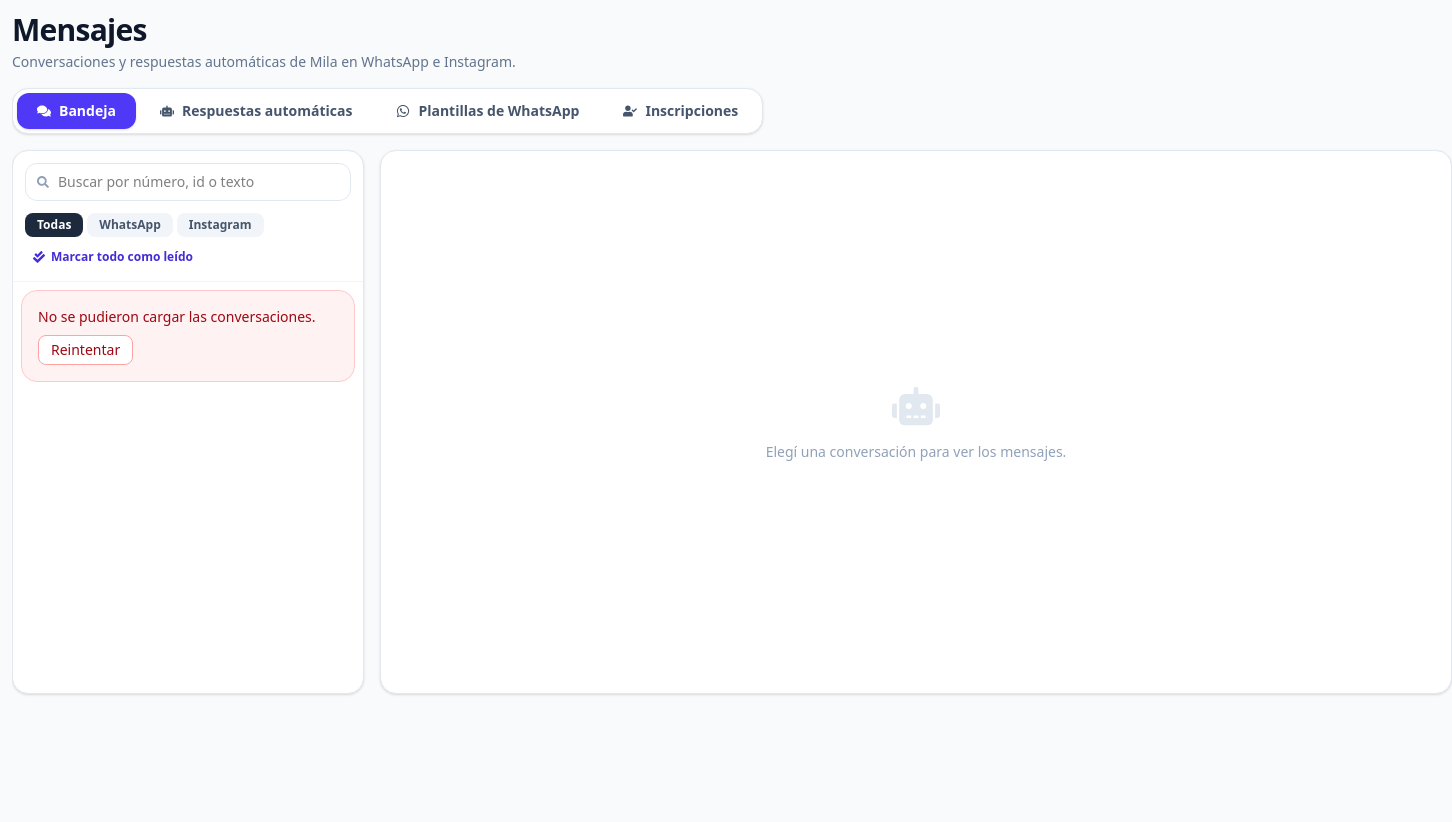
Test: BotMessagePage › inbox › tells a failed chat list load apart from an empty inbox, and retries
Expected: the message shows "No se pudieron cargar las conversaciones.", x1=38 y1=307 x2=316 y2=326
What coordinates should you click on to do the following:
click the button "Reintentar"
I would click on:
 (86, 350)
Its box is x1=38 y1=335 x2=133 y2=365.
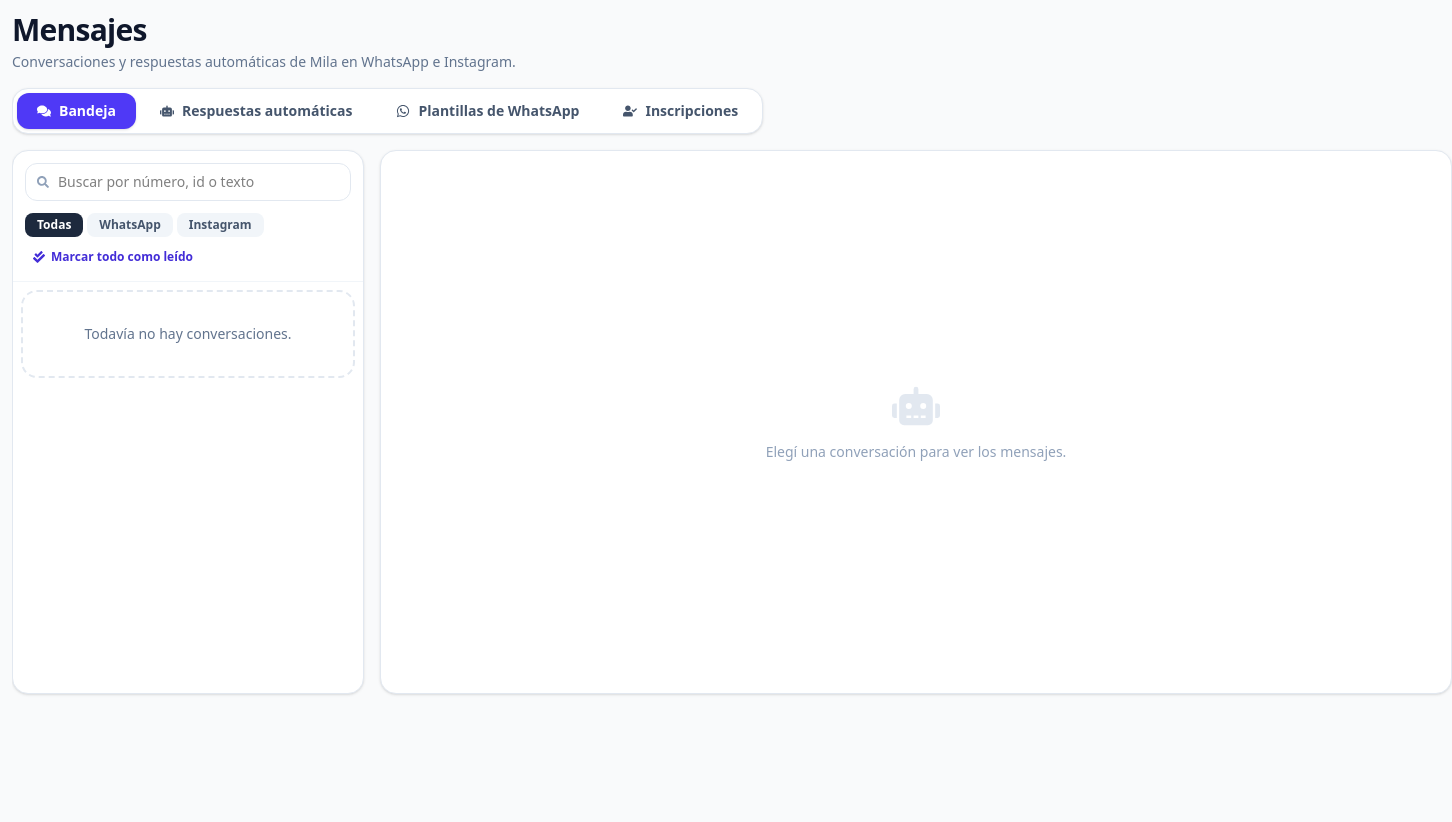
Now the text "Todavía no hay conversaciones." is shown, box x1=21 y1=290 x2=355 y2=378
